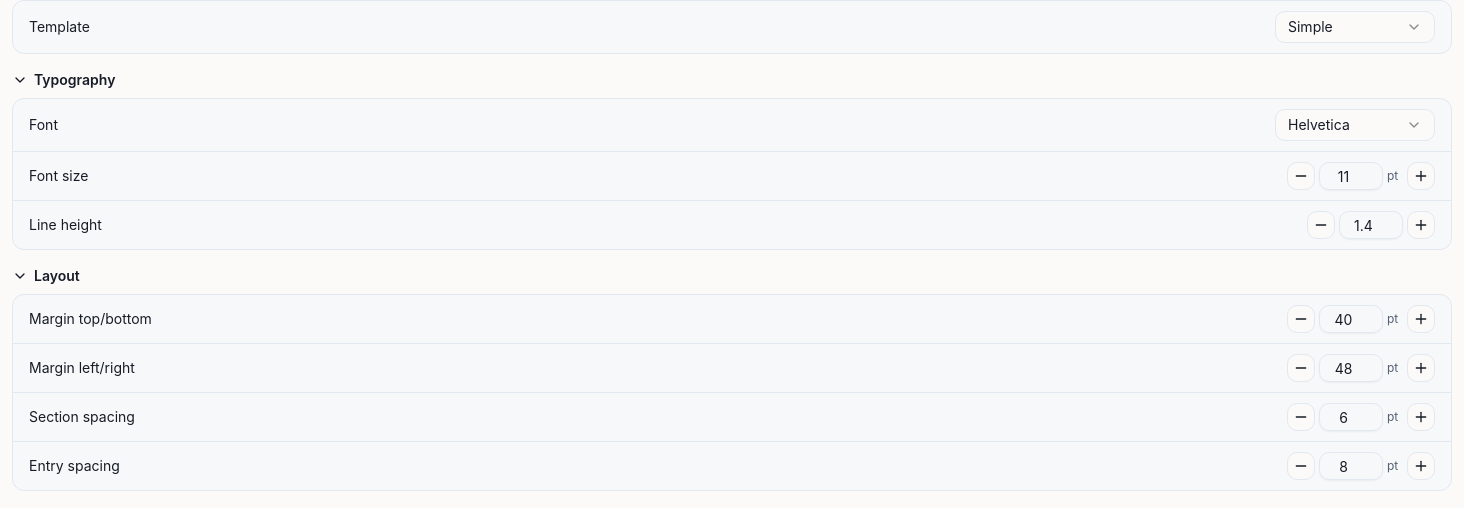
Test: ExportSettingsPanel — disclosure › hides a collapsed group's rows behind a value summary
This screenshot has width=1464, height=508.
Click the button "Layout": (57, 276) [12,266,1452,286]
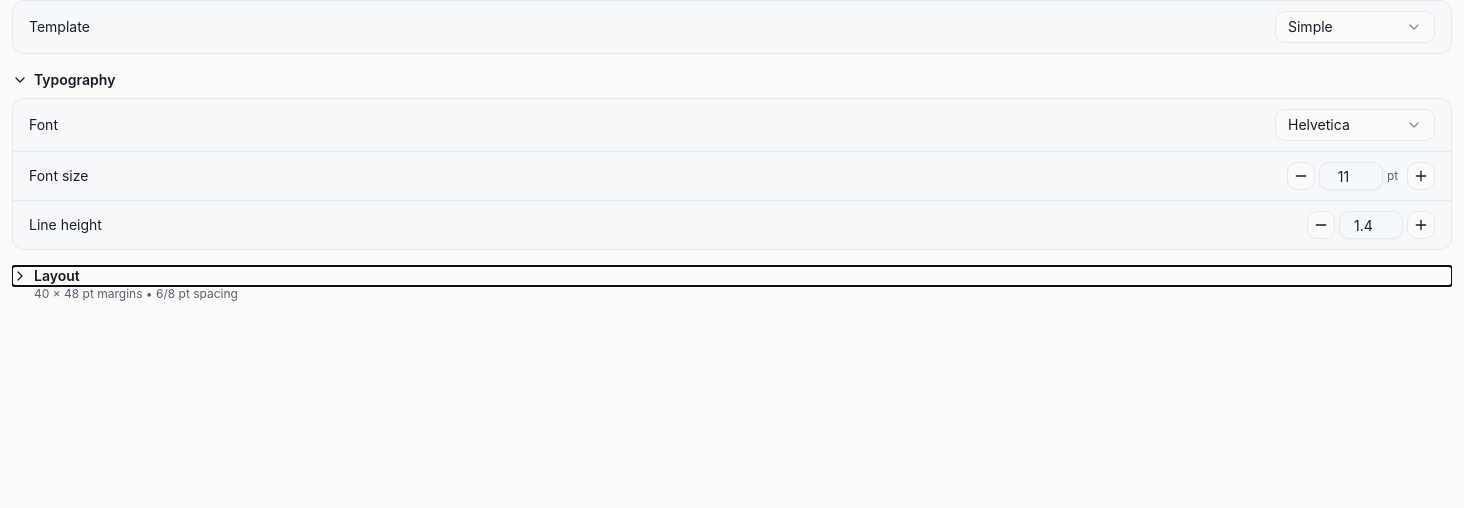
Expected: the label "Section spacing" is gone
Expected: the text "40 × 48 pt margins • 6/8 pt spacing" is shown, [34,286,238,301]
